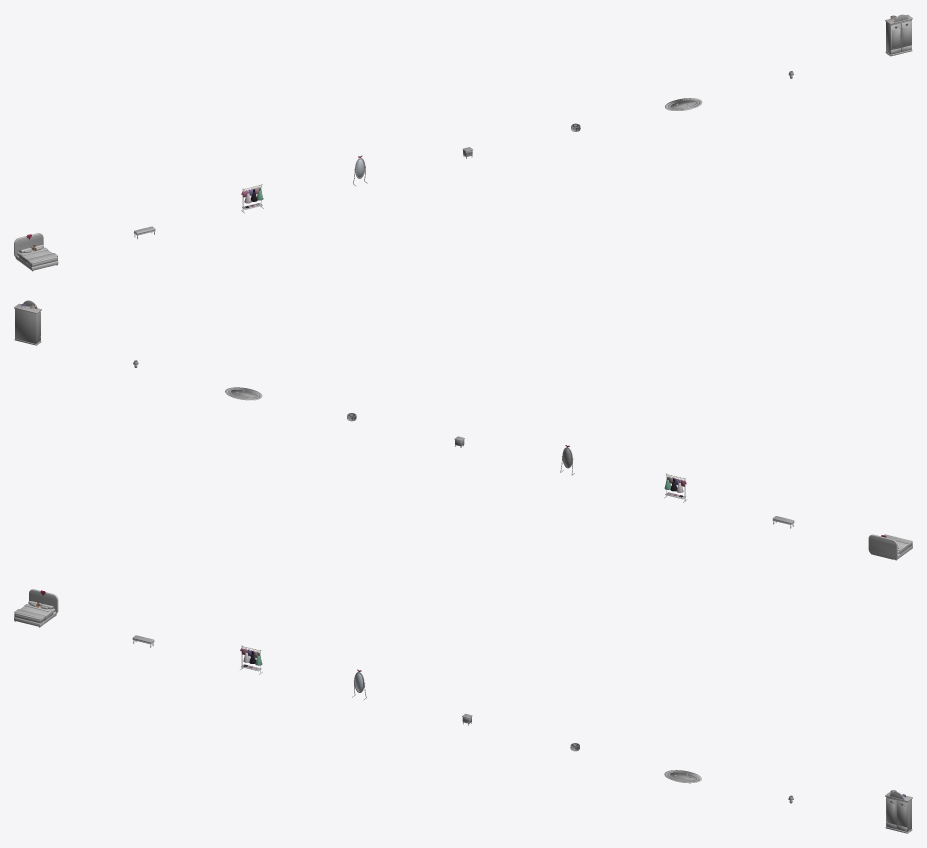
Rendered from bld_home_bed.glb.
3 views of the same model, one above another, from view 1: azimuth 30°, elevation 25°; view 2: azimuth 150°, elevation 25°; view 3: azimuth 330°, elevation 25° (orthographic).
Parts seen in each view (by area): view 1: INST_bld_home_bed_wardrobe_s_wood, INST_bld_home_bed_bed_s_wood; view 2: INST_bld_home_bed_wardrobe_s_wood, INST_bld_home_bed_bed_s_wood; view 3: INST_bld_home_bed_wardrobe_s_wood, INST_bld_home_bed_bed_s_wood.
Boxes of the visible parts, box(x1,y1,x2,y2) form: INST_bld_home_bed_wardrobe_s_wood: box(885, 14, 912, 56); INST_bld_home_bed_bed_s_wood: box(14, 233, 58, 271); INST_bld_home_bed_wardrobe_s_wood: box(14, 300, 41, 345); INST_bld_home_bed_bed_s_wood: box(868, 534, 912, 560); INST_bld_home_bed_wardrobe_s_wood: box(885, 791, 912, 833); INST_bld_home_bed_bed_s_wood: box(14, 589, 58, 627).
Size of the model in its own units: 65.93 by 2.84 by 2.21.
